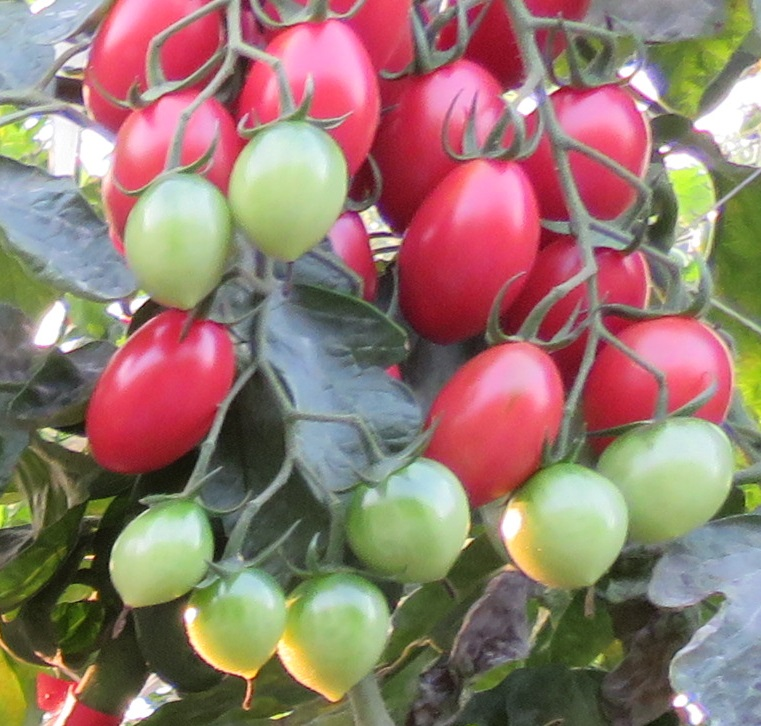green: (599, 418, 738, 554), (502, 450, 628, 590), (342, 450, 468, 586), (234, 121, 351, 261), (124, 165, 228, 315), (284, 565, 391, 703), (106, 491, 218, 612), (185, 557, 288, 678)
red: (394, 156, 548, 352), (86, 307, 239, 477), (370, 58, 515, 232), (417, 339, 562, 505), (244, 15, 381, 183), (574, 319, 743, 453), (515, 71, 653, 229), (507, 227, 653, 374), (83, 1, 228, 134), (438, 1, 594, 92), (113, 83, 232, 179)
